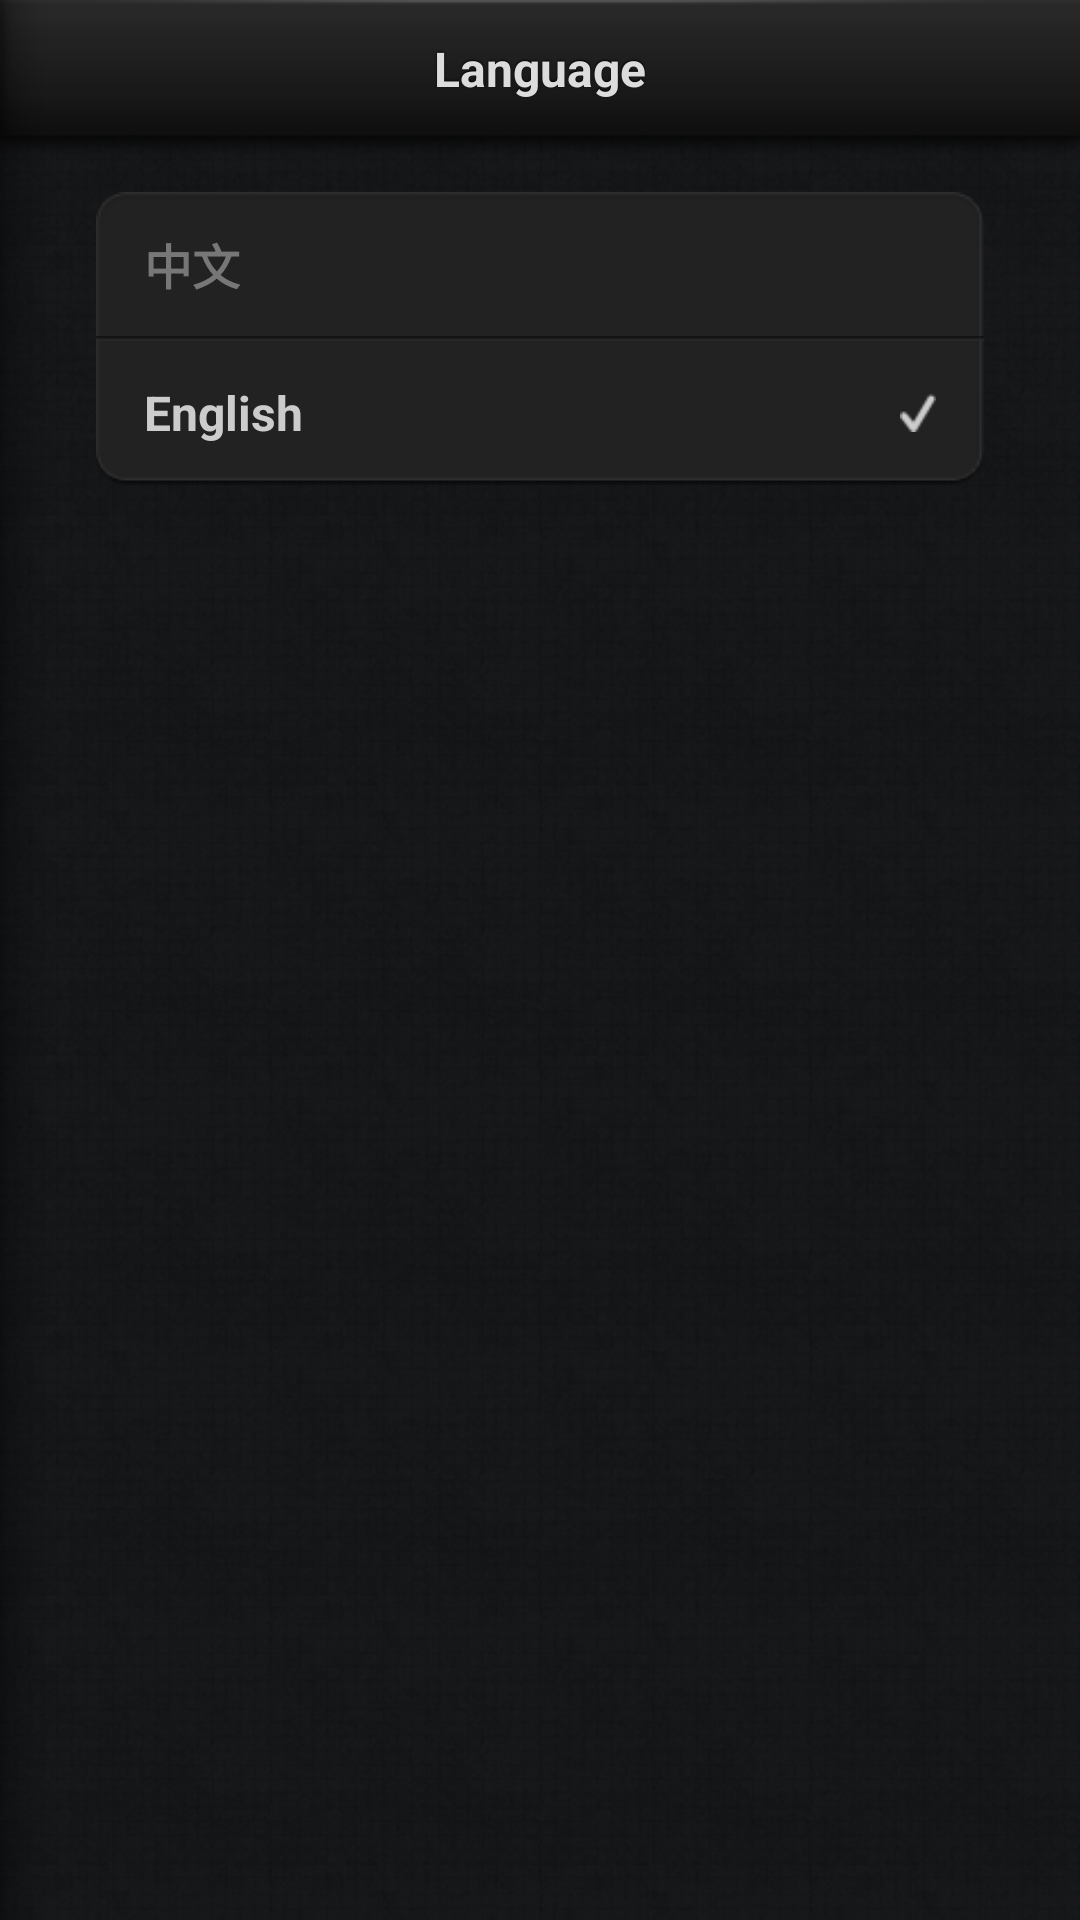

Icons on this 1080px×1920px Android screen, each with its box as bbox(x1, y1, x2, y2):
setting checkmark: bbox(900, 394, 936, 432)
